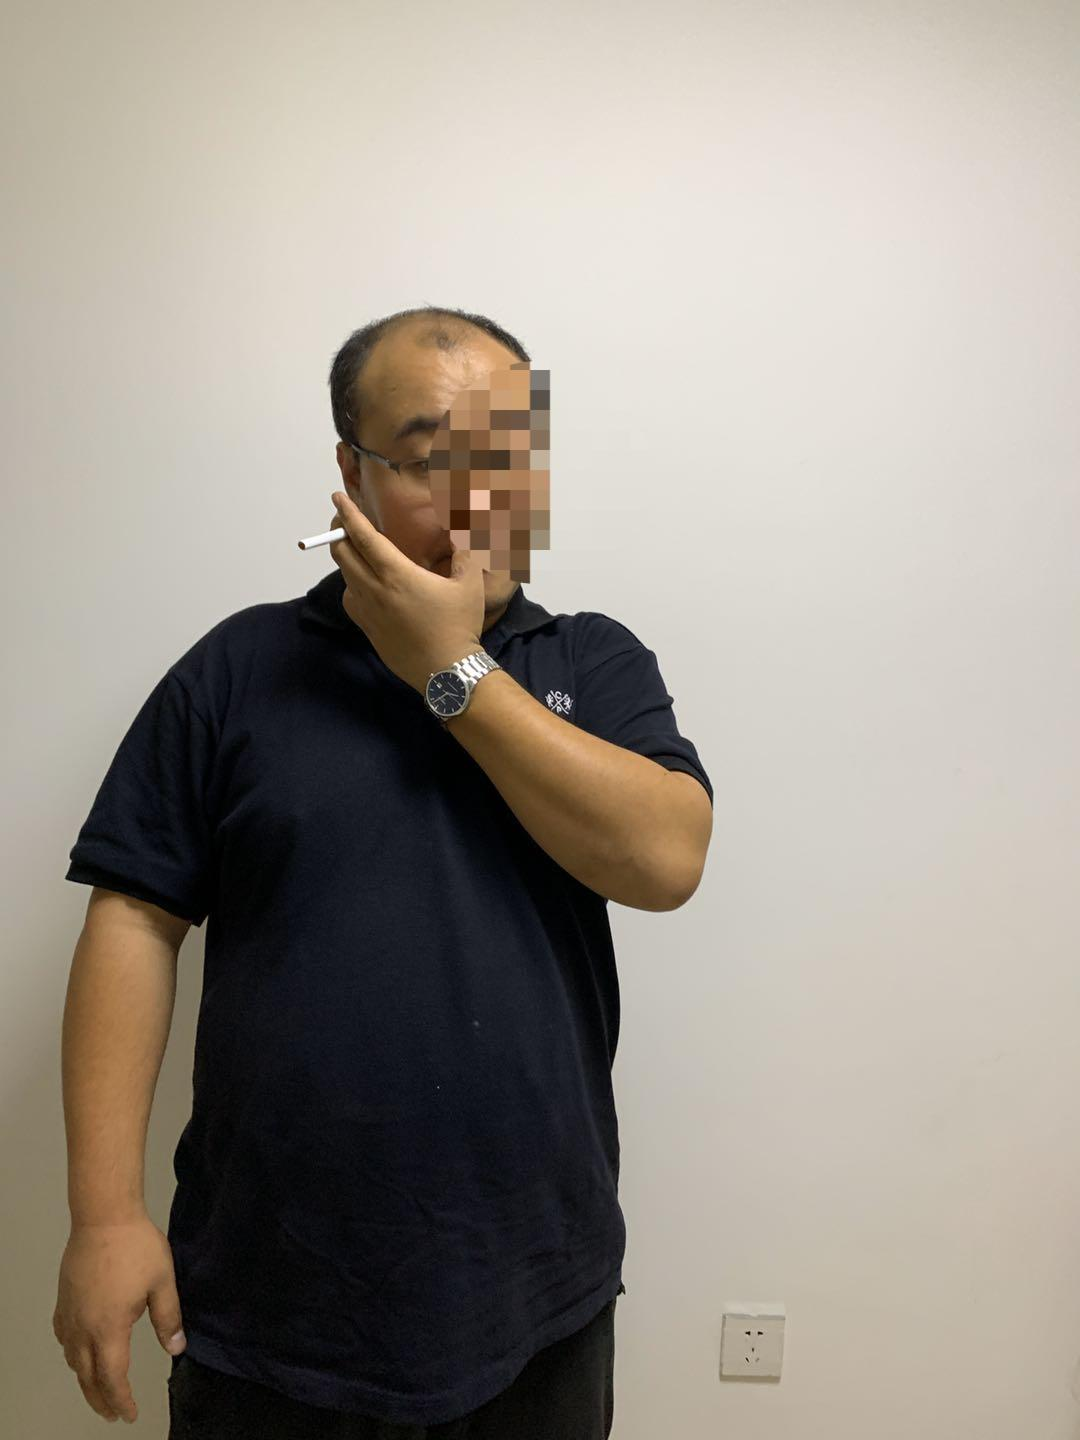smoke: (297, 528, 344, 557)
